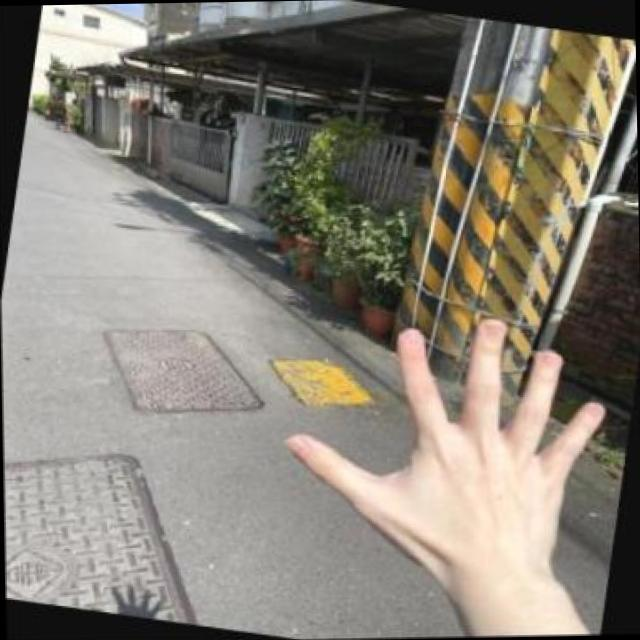without_gloves: (241, 277, 640, 640)
